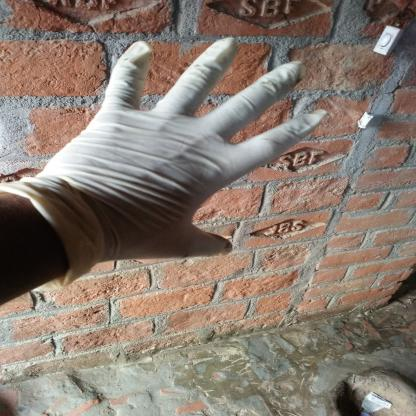gloved_hand: (0, 33, 333, 297)
